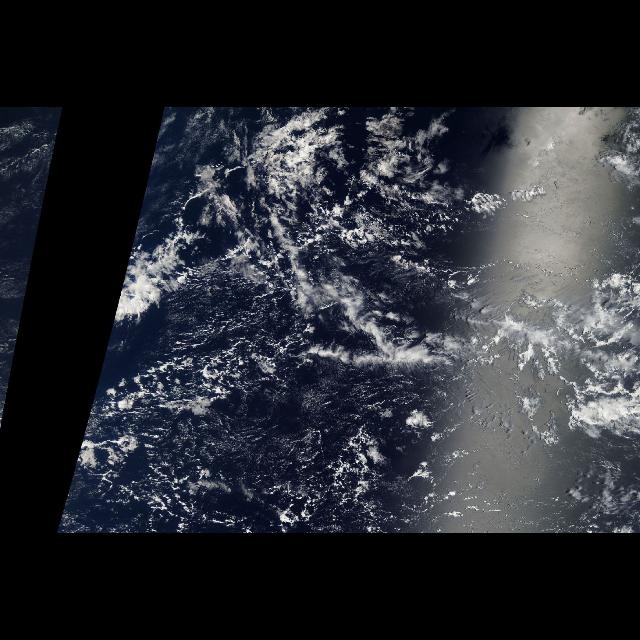Gravel: (86, 334, 576, 524), (176, 110, 446, 292)
